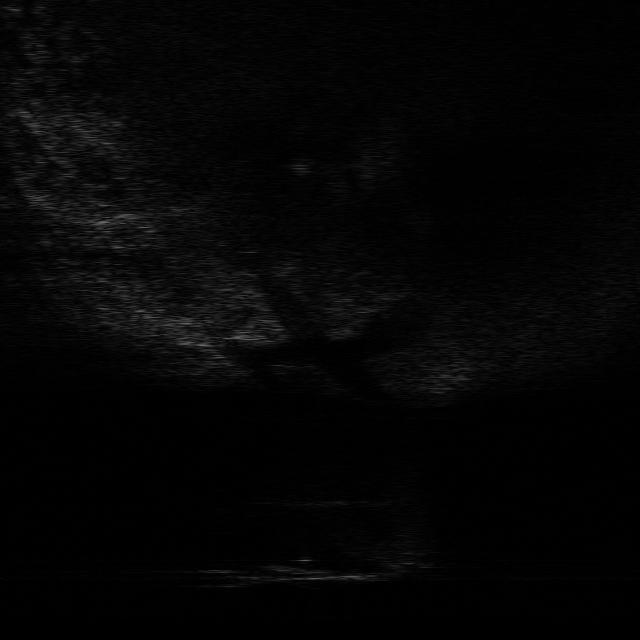plane: (195, 534, 433, 589)
